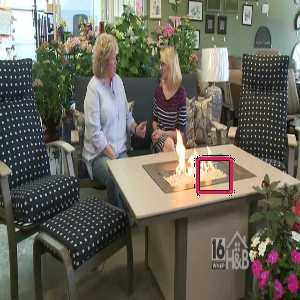square: (192, 155, 237, 196)
